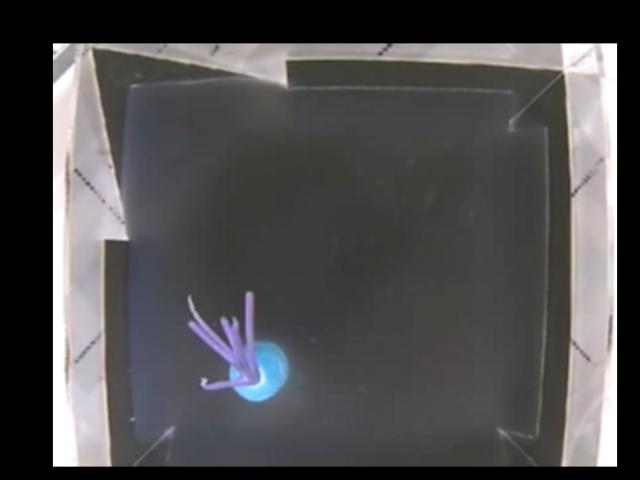Carrot: (185, 294, 289, 405)
